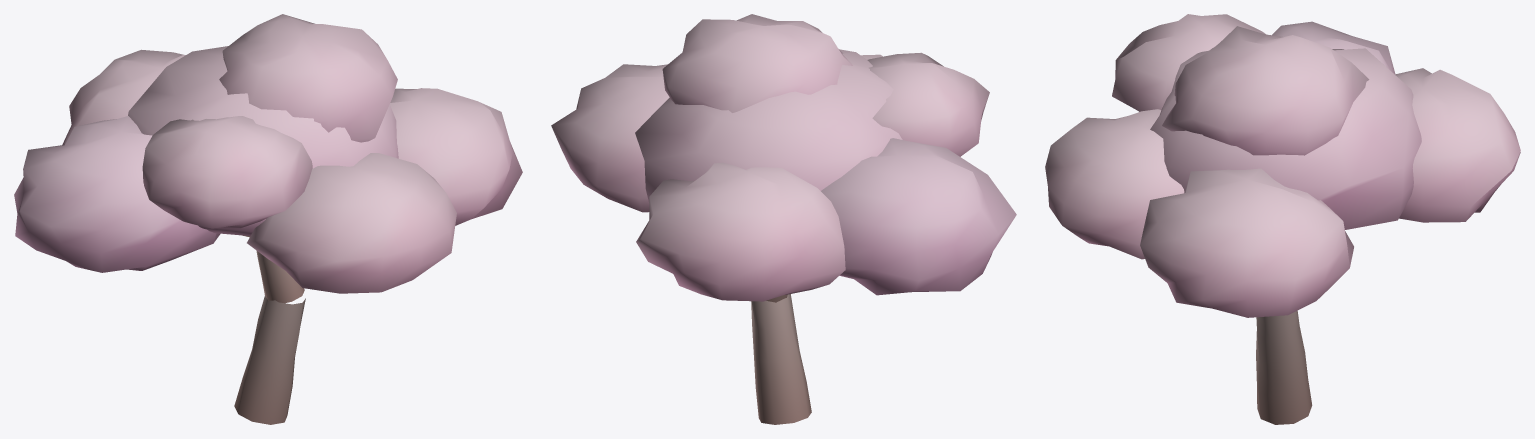
Rendered from kirschbaum.glb.
3 renders of one model, left to right at view 1: azimuth 30°, elevation 25°; view 2: azimuth 150°, elevation 25°; view 3: azimuth 270°, elevation 25°, orthographic.
Parts seen in each view (by area): view 1: kirschbaum2; view 2: kirschbaum2; view 3: kirschbaum2.
Boxes of the visible parts, x1,y1,x2,y2 form: kirschbaum2: (14, 14, 522, 424); kirschbaum2: (551, 14, 1016, 424); kirschbaum2: (1045, 14, 1520, 424).
Size of the model in its own units: 5.77 by 4.65 by 5.15.
